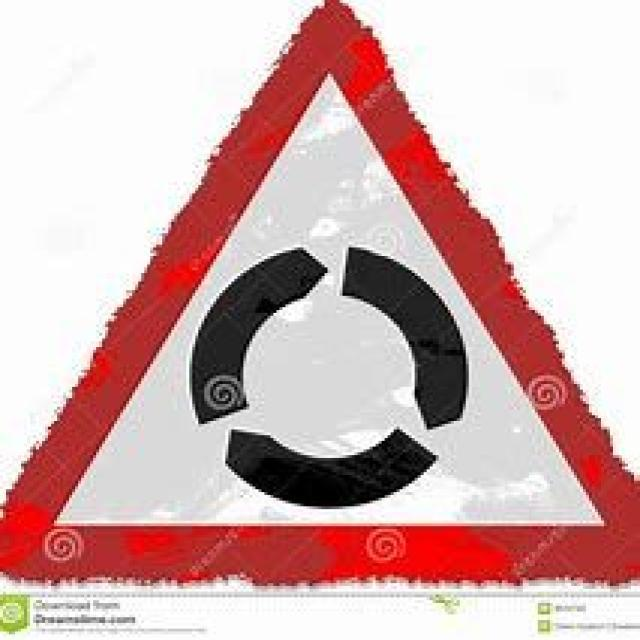roundabout: (26, 14, 625, 568)
